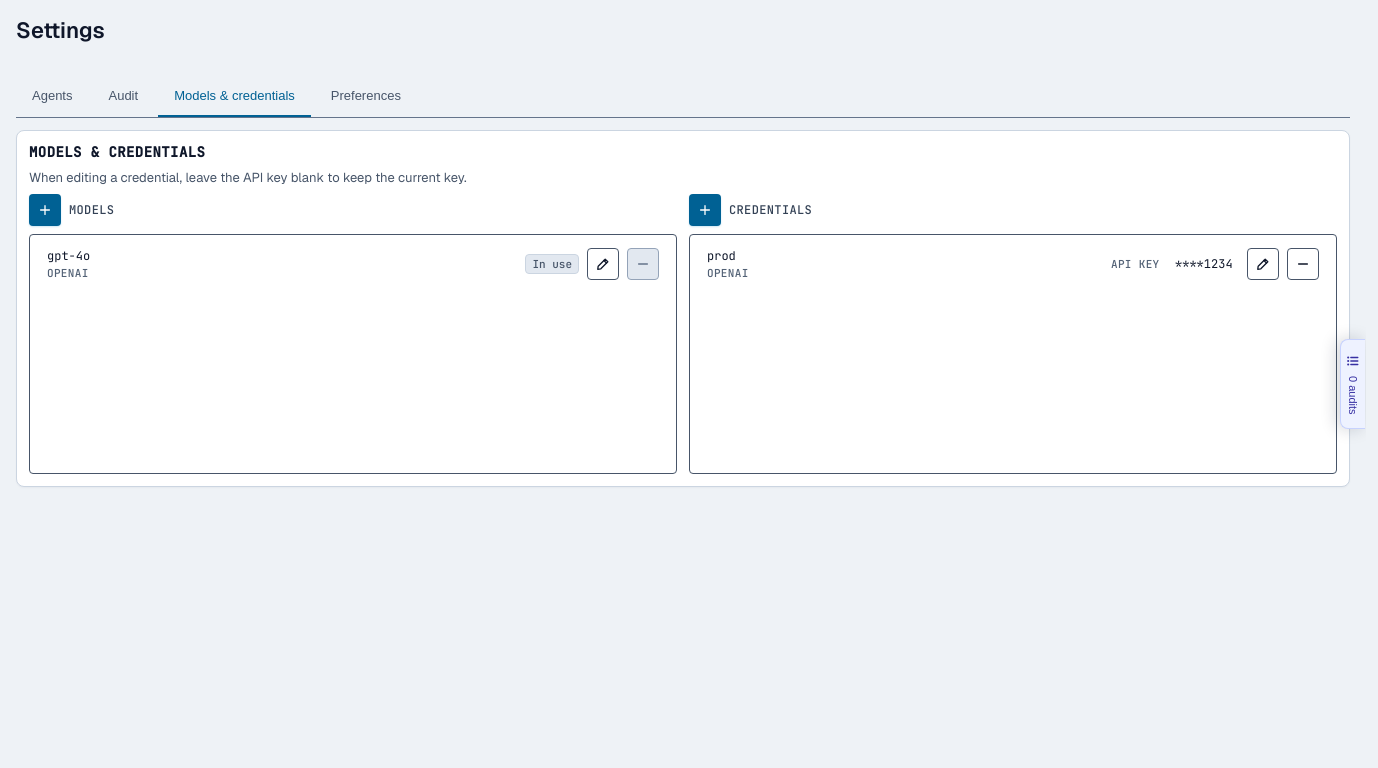
Test: SettingsPage › toasts deletion failures
Expected: the option "gpt-4o OpenAI In use" is shown, x1=34 y1=239 x2=672 y2=288
What coordinates should you click on to do the following:
click the button named "Remove prod"
I would click on:
 (1303, 264)
Its box is x1=1287 y1=248 x2=1319 y2=280.
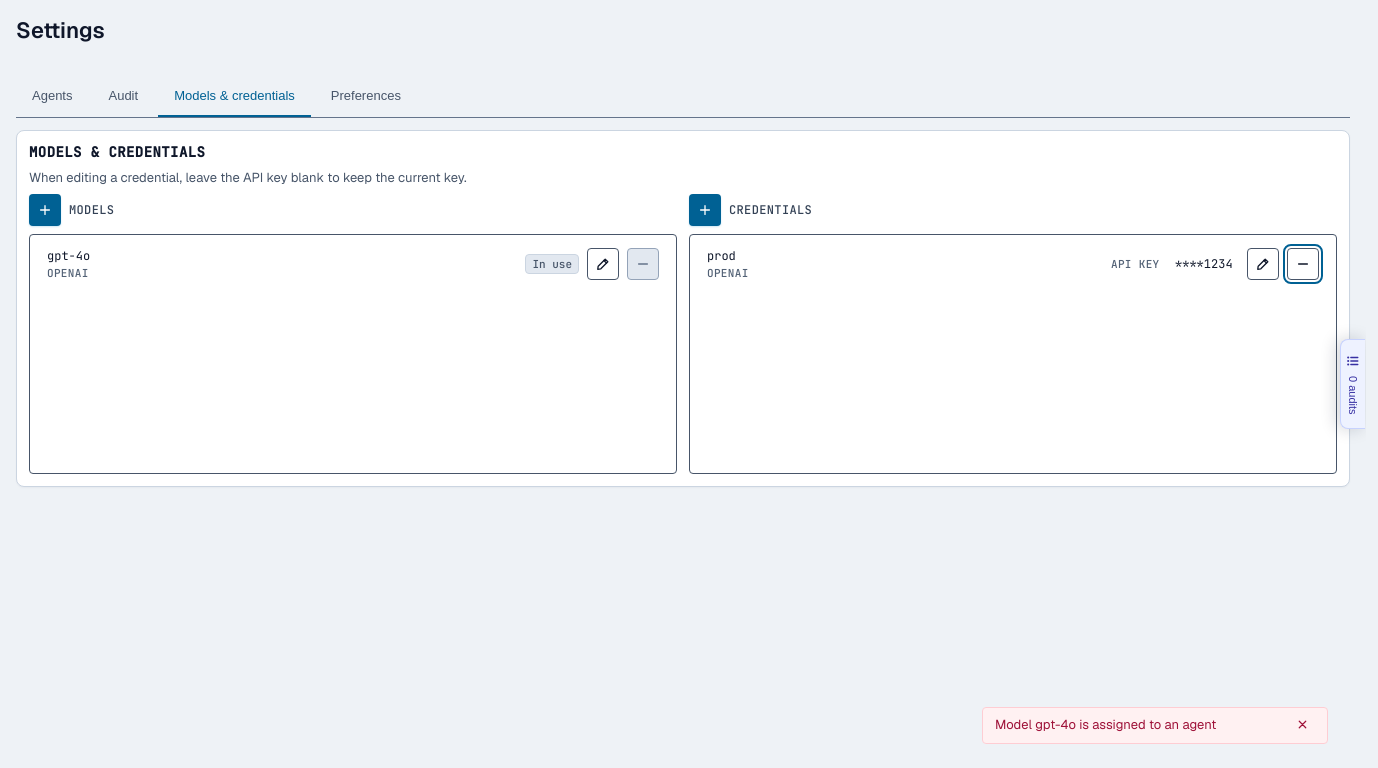
Now the text "Model gpt-4o is assigned to an agent" is shown, box x1=995 y1=716 x2=1216 y2=733
